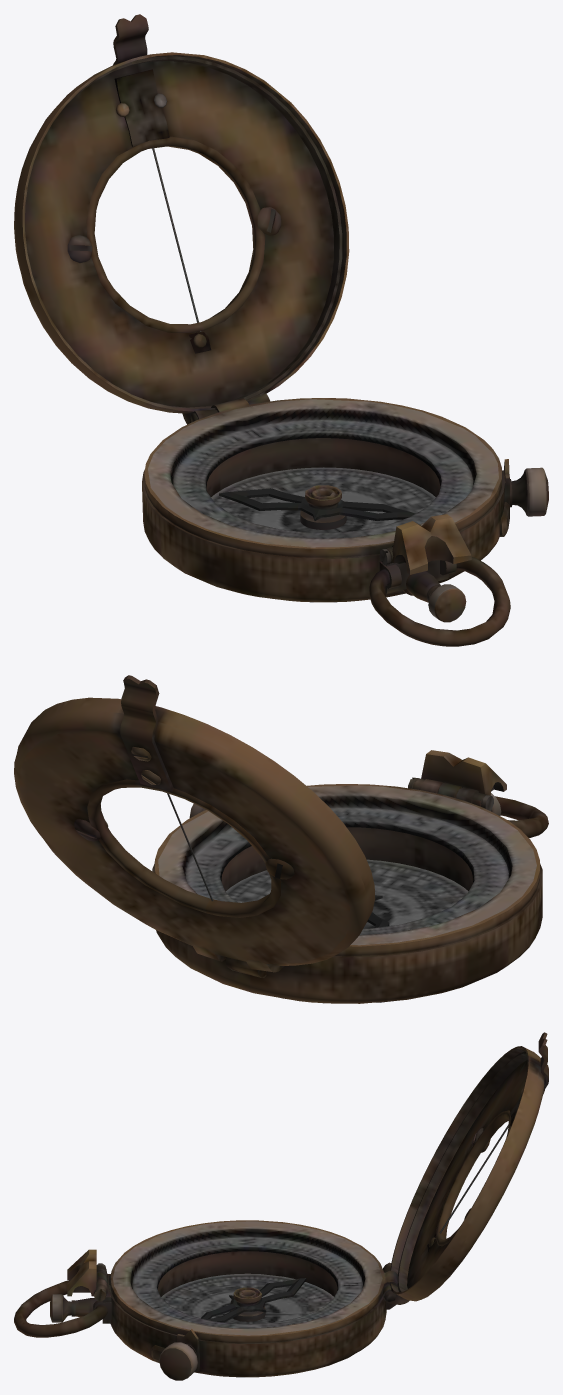
Rendered from seadogs_compass.glb.
3 views of the same model, one above another, from view 1: azimuth 30°, elevation 25°; view 2: azimuth 150°, elevation 25°; view 3: azimuth 270°, elevation 25° (orthographic). The views are drawn at different scales.
Parts seen in each view (by area): view 1: seadogs_compass; view 2: seadogs_compass; view 3: seadogs_compass.
Part boxes in pixels (left/top/right/bottom): seadogs_compass: left=14, top=14, right=548, bottom=646; seadogs_compass: left=14, top=675, right=548, bottom=1003; seadogs_compass: left=14, top=1032, right=548, bottom=1380.
Bounding box in the file's own units: 0.0812 × 0.0866 × 0.1441.
Materials: 1 (1 with a texture image).
